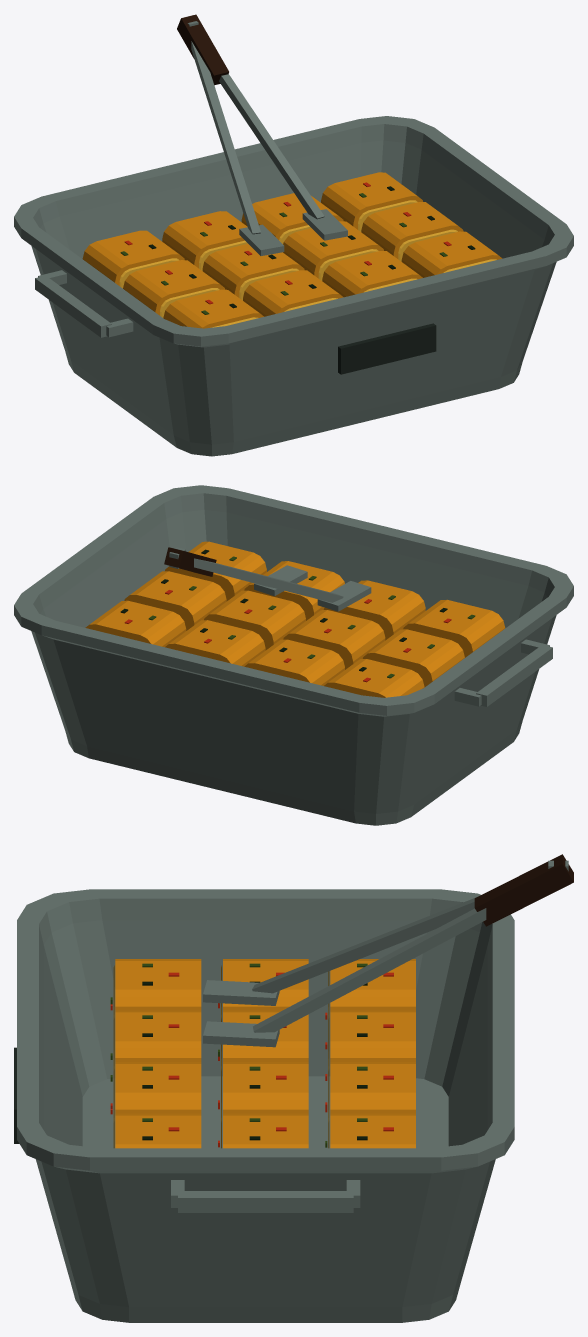
Rendered from 04_Omelette_Pan.fbx.
The picture shows the model from 3 angles, top to bottom: view 1: azimuth 30°, elevation 25°; view 2: azimuth 150°, elevation 25°; view 3: azimuth 270°, elevation 25°; orthographic projection. The views are drawn at different scales.
Visible parts, largest first — view 1: Container.003, Food.003, Utensil.003; view 2: Container.003, Food.003, Utensil.003; view 3: Container.003, Food.003, Utensil.003.
Boxes of the visible parts, box(x1,y1,x2,y2) form: Container.003: box(14, 116, 573, 456); Food.003: box(82, 172, 502, 328); Utensil.003: box(177, 14, 347, 255); Container.003: box(14, 485, 573, 825); Food.003: box(85, 541, 505, 697); Utensil.003: box(164, 547, 371, 611); Container.003: box(14, 889, 514, 1322); Food.003: box(110, 959, 415, 1148); Utensil.003: box(203, 854, 573, 1047).
Bounding box in the file's own units: 71.1 × 40.55 × 57.38.
2 materials, 2 textured.
